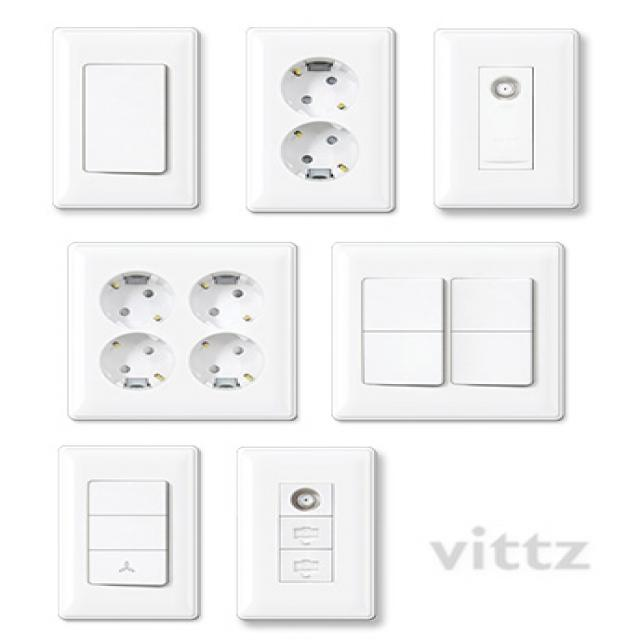typeb: (56, 236, 314, 432), (228, 15, 416, 226)
